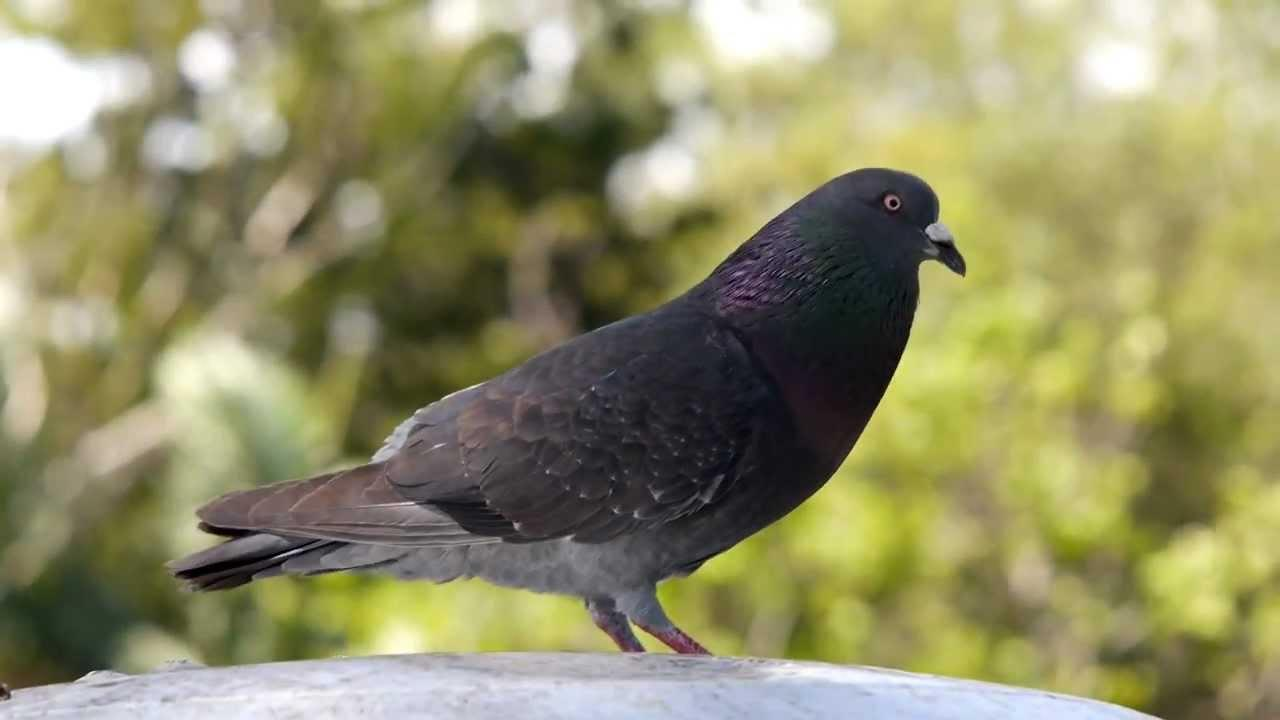Flying Rat: (197, 151, 978, 670)
